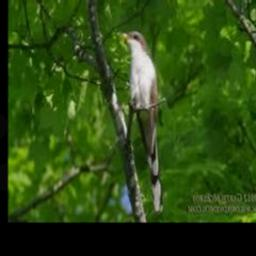Cuckoo: (123, 31, 163, 211)
